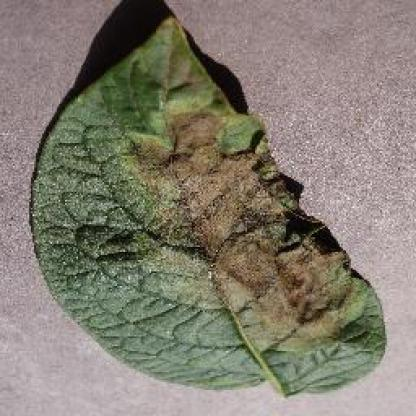bad leaf: (17, 23, 374, 390)
